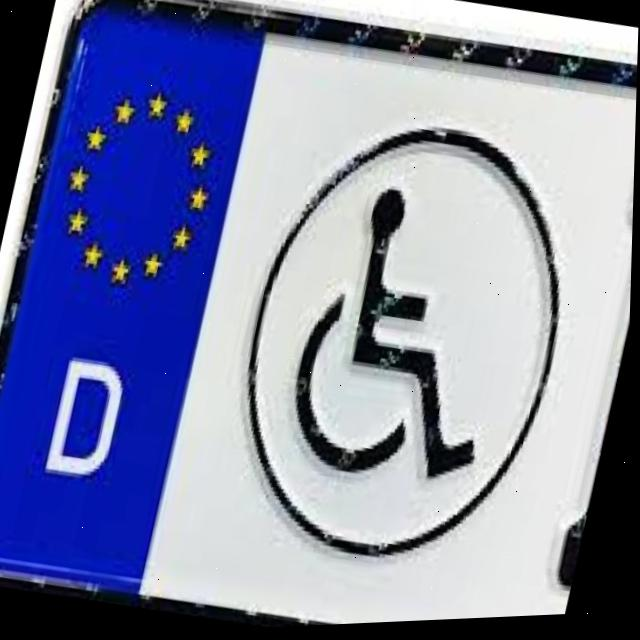symbol_of_access: (251, 149, 556, 538)
